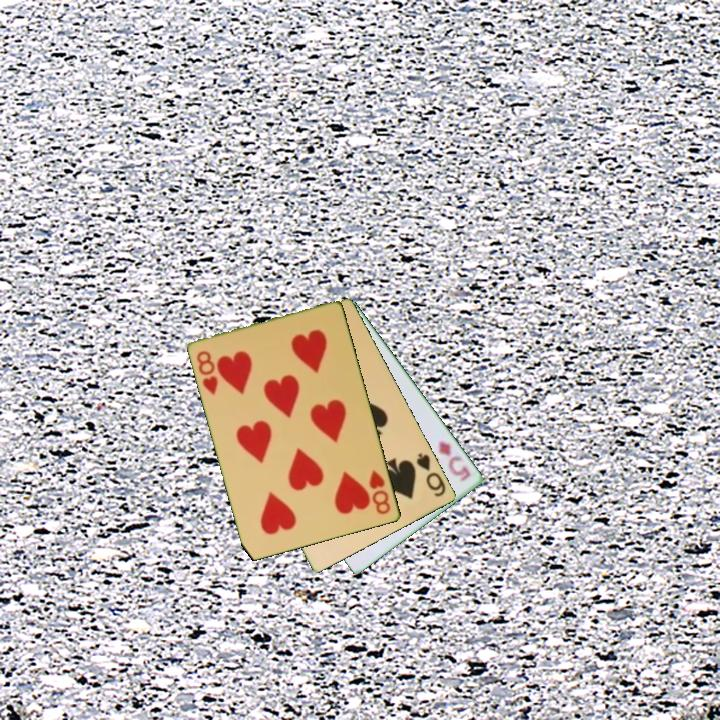5d: (435, 437, 474, 485)
6s: (413, 449, 449, 500)
8h: (193, 347, 221, 398), (366, 467, 394, 517)
